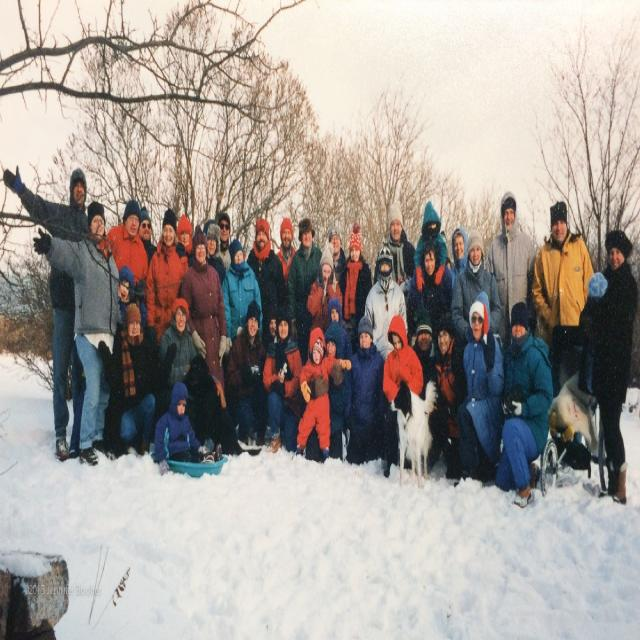body: (1, 162, 93, 464), (31, 198, 125, 470), (576, 226, 640, 507), (94, 299, 178, 458), (492, 297, 555, 509), (530, 200, 595, 400), (453, 287, 506, 485), (448, 227, 504, 408), (143, 208, 190, 406), (292, 321, 352, 461), (180, 223, 228, 398), (300, 321, 355, 467), (486, 190, 537, 346), (223, 296, 271, 455), (382, 313, 424, 480), (427, 313, 468, 481), (261, 300, 305, 456), (152, 381, 223, 477), (344, 312, 386, 467), (405, 310, 444, 472), (287, 219, 325, 367), (363, 242, 409, 362), (405, 242, 455, 346), (220, 238, 264, 354), (246, 216, 286, 342), (96, 198, 150, 288), (340, 220, 373, 357), (322, 297, 353, 426), (578, 271, 609, 397), (372, 203, 417, 286), (158, 298, 197, 387), (413, 200, 449, 294), (305, 247, 344, 329), (274, 216, 298, 291), (202, 218, 227, 287), (136, 204, 160, 272), (447, 225, 471, 290), (328, 226, 347, 296), (115, 265, 135, 327), (212, 212, 232, 273), (174, 211, 194, 265)
